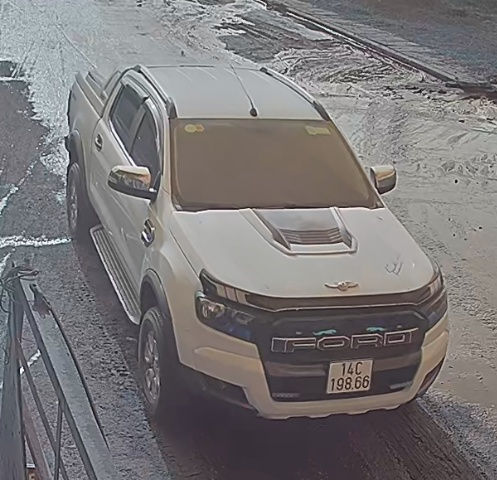vehicle plate: (326, 354, 373, 396)
